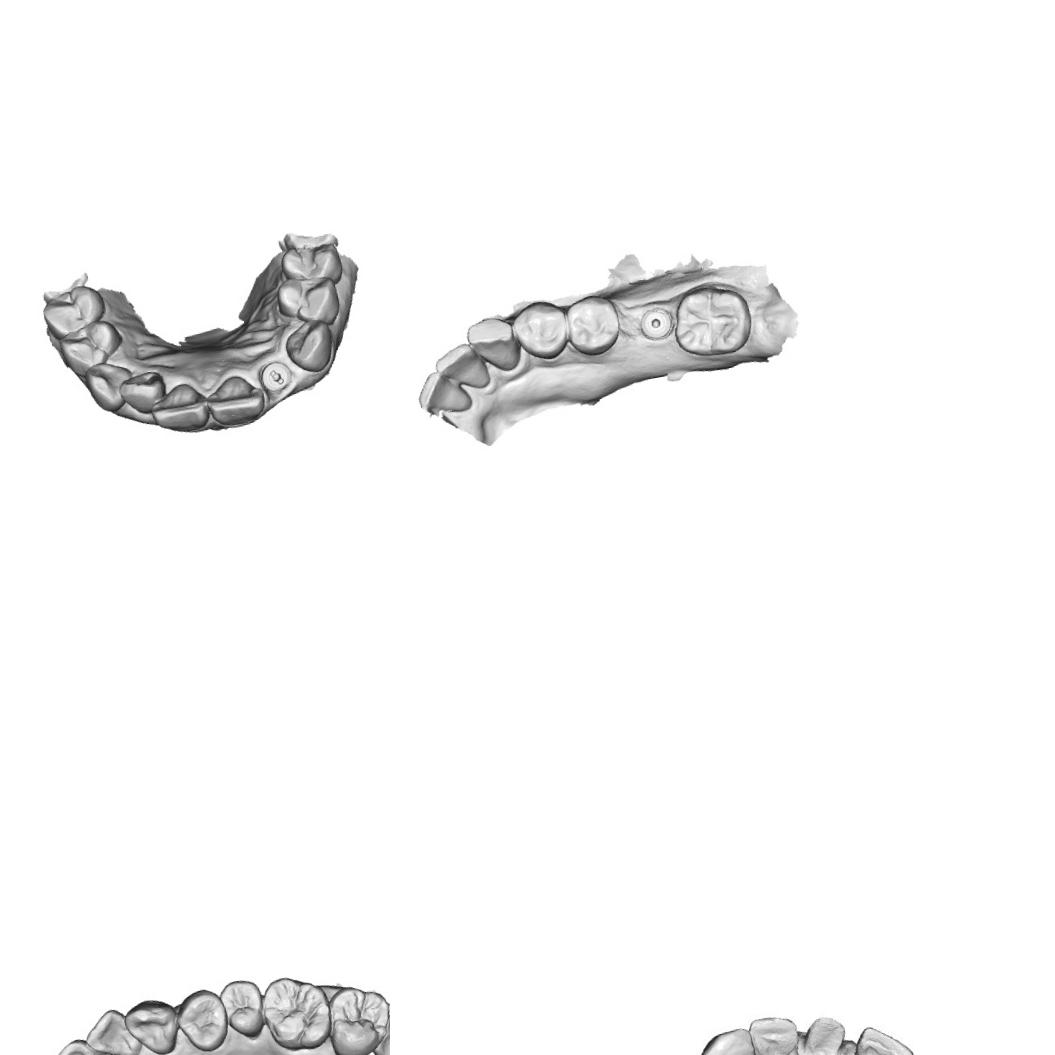canine: (462, 310, 526, 382), (118, 993, 183, 1055), (280, 316, 338, 376), (82, 356, 138, 416), (695, 1025, 761, 1055)
implant: (632, 299, 679, 347)
implant_minus: (256, 358, 295, 396)
incisor: (428, 338, 494, 399), (413, 362, 479, 423), (146, 378, 212, 438), (202, 370, 268, 429), (78, 1003, 143, 1055), (115, 368, 170, 419), (848, 1018, 916, 1055), (799, 1010, 848, 1055), (747, 1012, 797, 1055), (39, 1031, 121, 1055)
molar: (664, 276, 759, 364), (256, 968, 336, 1055), (320, 978, 390, 1055), (366, 1000, 390, 1055)
premolar: (506, 290, 574, 366), (560, 288, 626, 362), (56, 316, 126, 382), (272, 269, 343, 334), (170, 983, 233, 1055), (38, 282, 109, 342), (276, 237, 345, 294), (216, 976, 268, 1042)
